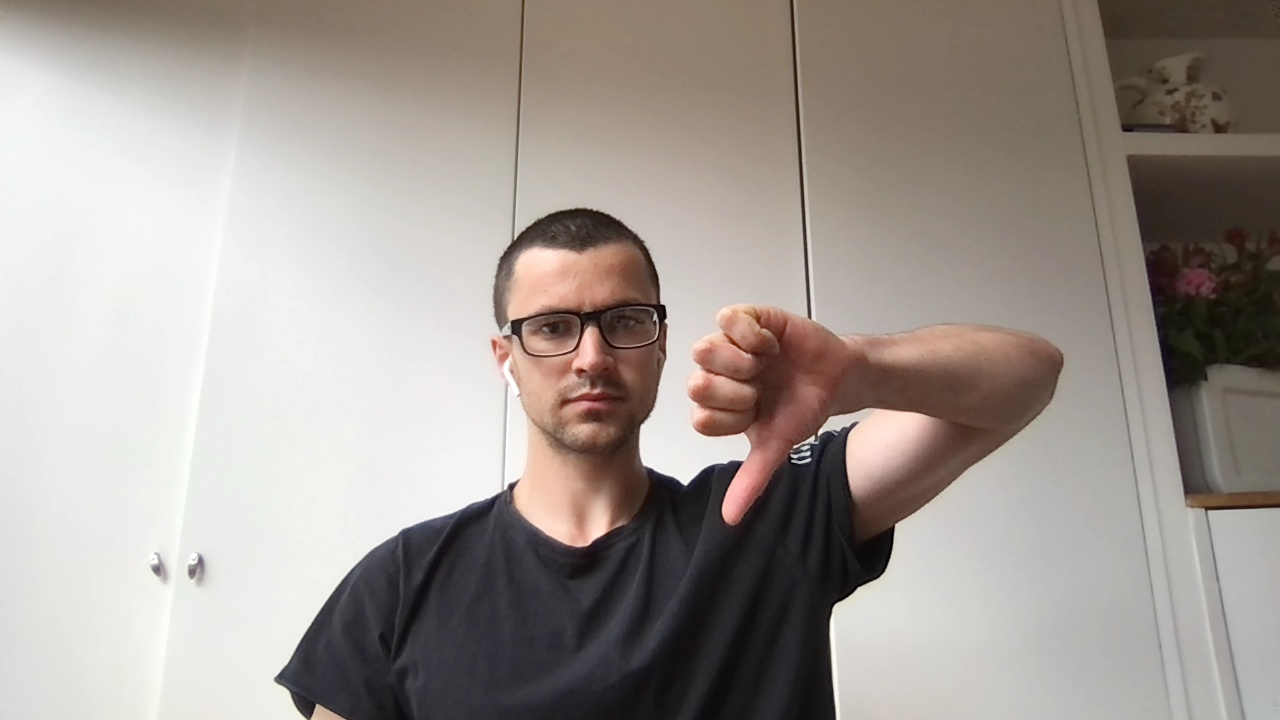thumbDown: (687, 304, 861, 526)
